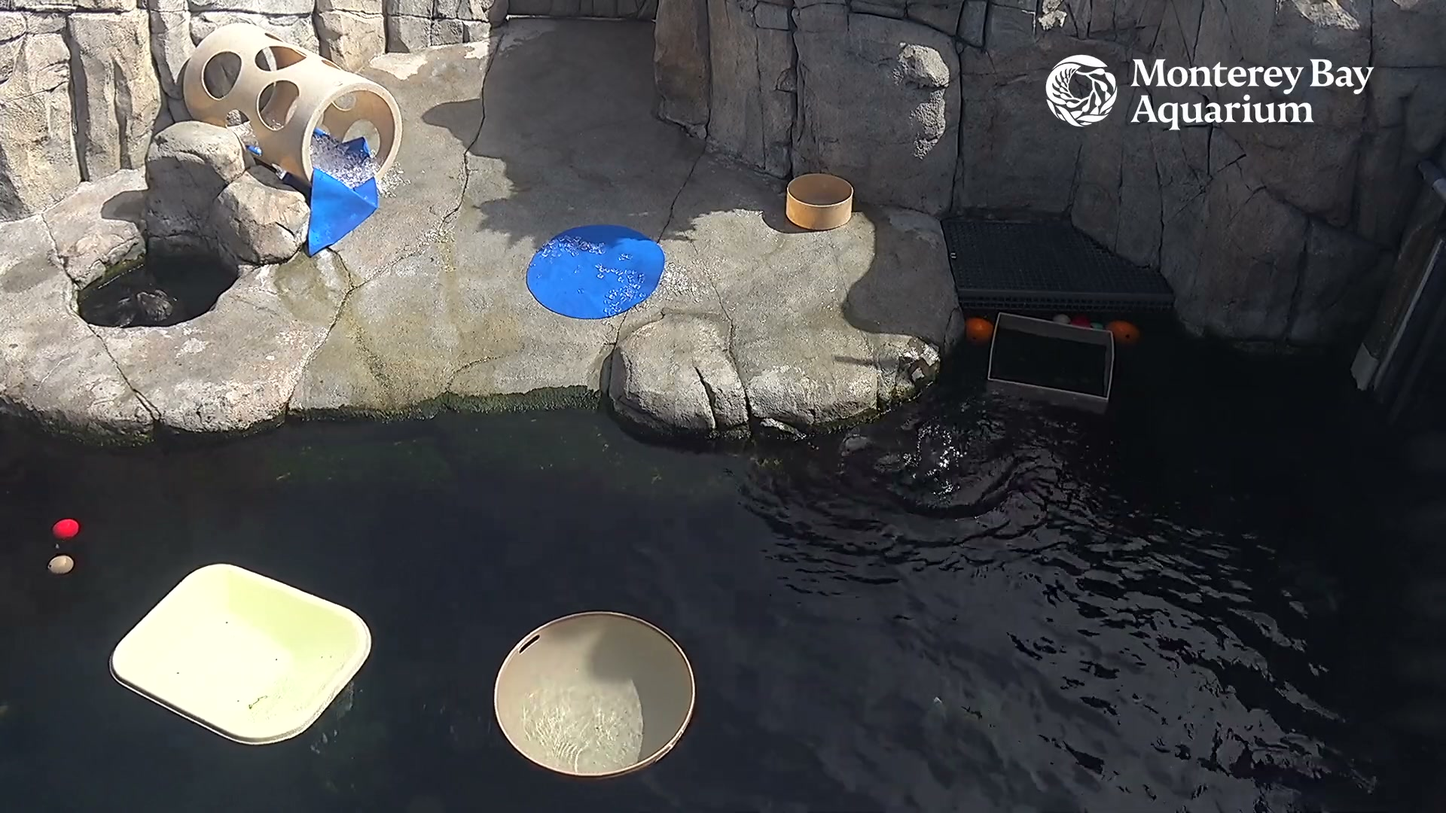Southern Sea Otter: (114, 282, 187, 332)
